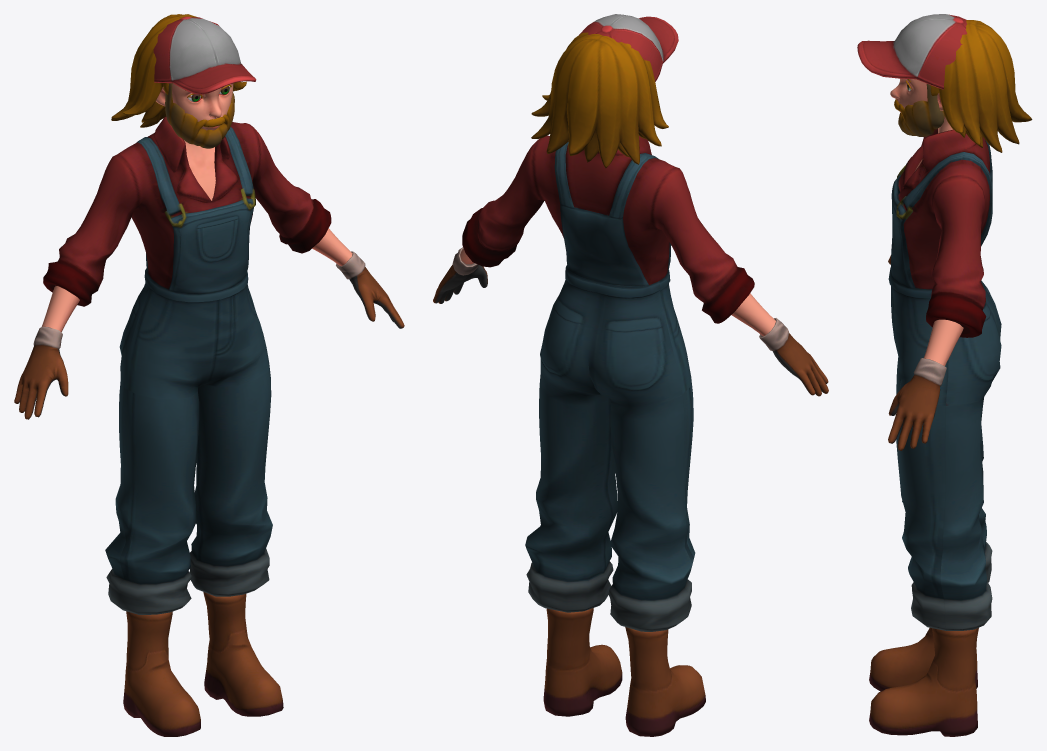
Rendered from Forester_Mesh.obj.
The picture shows the model from 3 angles, left to right: view 1: azimuth 30°, elevation 25°; view 2: azimuth 150°, elevation 25°; view 3: azimuth 270°, elevation 25°; orthographic projection.
Visible parts, largest first — view 1: Forester_Mesh_0; view 2: Forester_Mesh_0; view 3: Forester_Mesh_0.
Boxes of the visible parts, box(x1,y1,x2,y2) form: Forester_Mesh_0: box(14, 14, 404, 736); Forester_Mesh_0: box(433, 14, 828, 736); Forester_Mesh_0: box(857, 14, 1032, 736).
Bounding box in the file's own units: 1.06 × 1.83 × 0.4203.
1 material, 1 textured.
